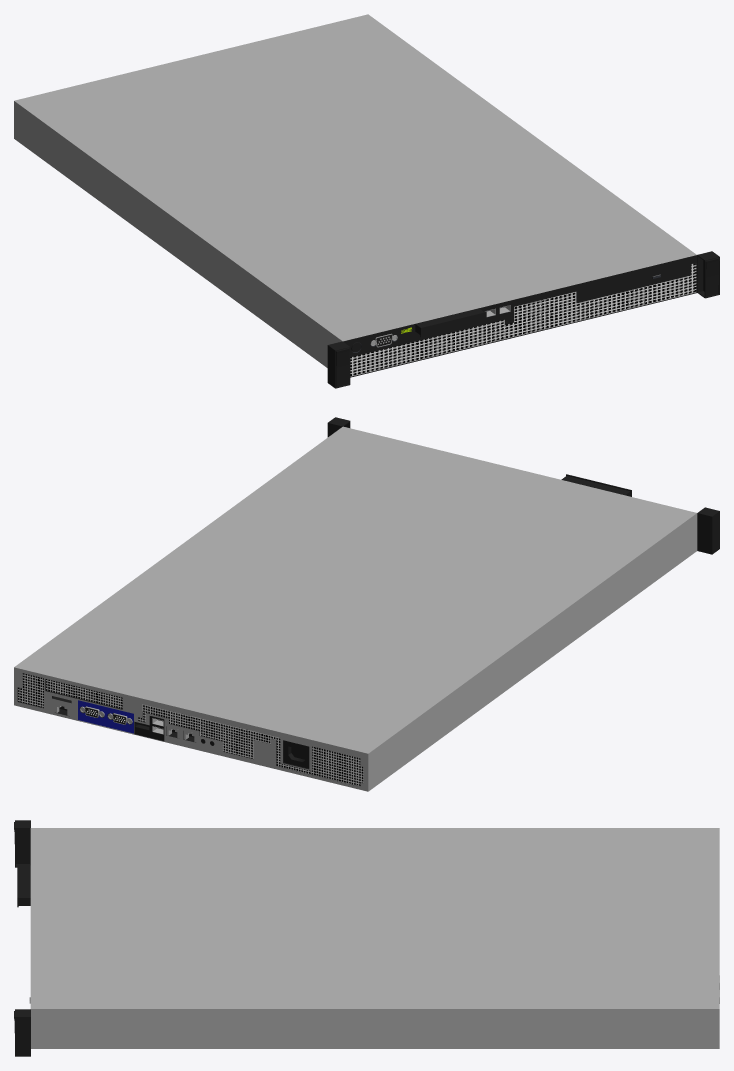
File: Dell_R220.fbx
The picture shows the model from 3 angles, top to bottom: view 1: azimuth 30°, elevation 25°; view 2: azimuth 150°, elevation 25°; view 3: azimuth 270°, elevation 25°; orthographic projection. The views are drawn at different scales.
Parts seen in each view (by area): view 1: Dell_R220; view 2: Dell_R220; view 3: Dell_R220.
Part boxes in pixels (box(x1,y1,x2,y2)): Dell_R220: box(14, 14, 719, 388); Dell_R220: box(14, 417, 719, 791); Dell_R220: box(14, 820, 719, 1056).
Size of the model in its own units: 462 by 44.38 by 702.
7 materials, 2 textured.
